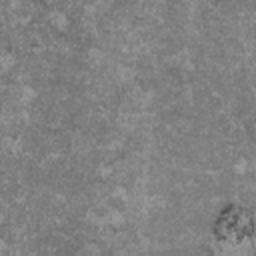Oxide scale of plate system: (198, 202, 256, 256)
